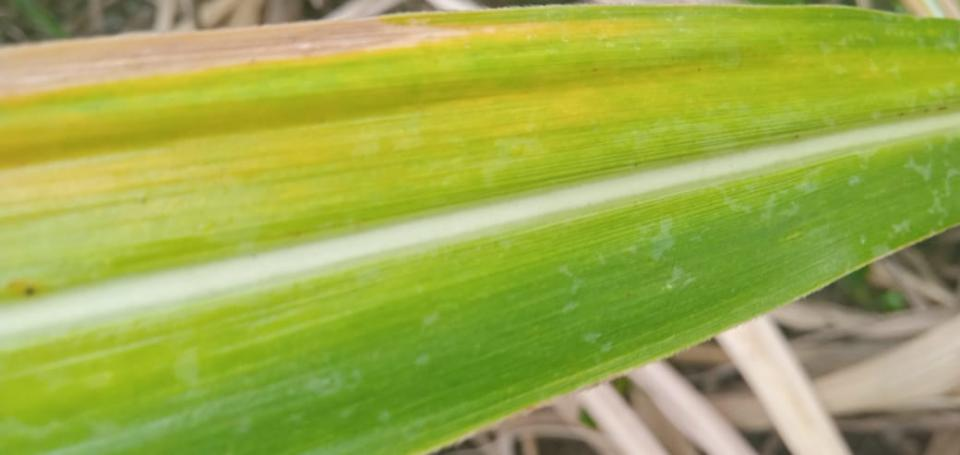Yellow: (0, 62, 729, 212), (0, 17, 662, 109)
